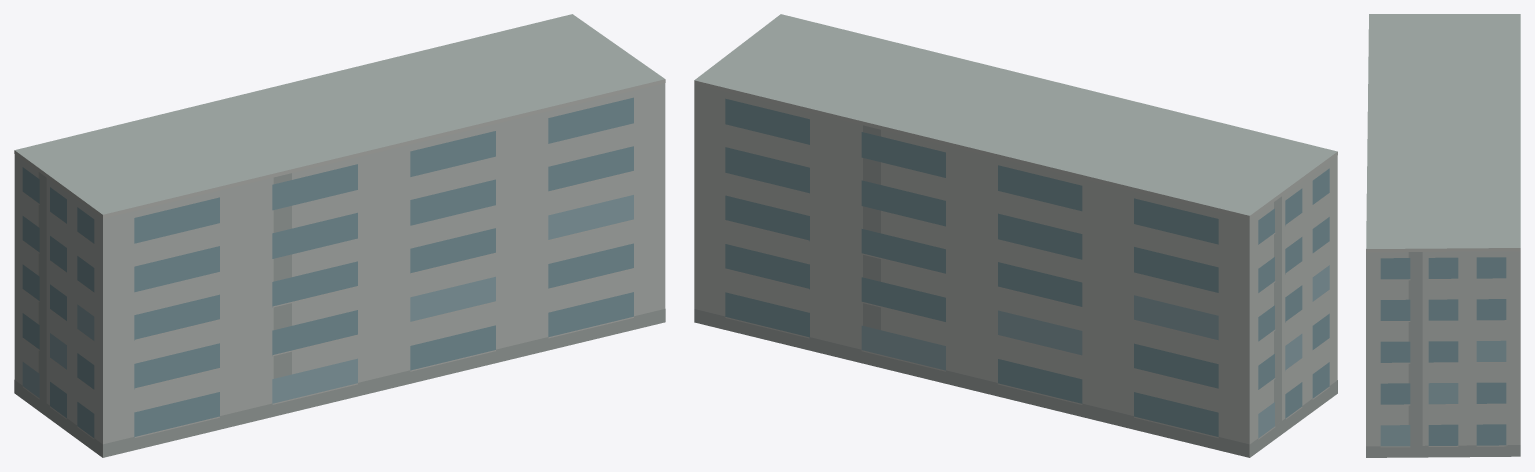
Rendered from residential-b65b1051-b48e-4712-afce-ce7376245636.glb.
3 renders of one model, left to right at view 1: azimuth 30°, elevation 25°; view 2: azimuth 150°, elevation 25°; view 3: azimuth 270°, elevation 25°, orthographic. The views are drawn at different scales.
Visible parts, largest first — view 1: residential-b65b1051-b48e-4712-afce-ce7376245636.tmp; view 2: residential-b65b1051-b48e-4712-afce-ce7376245636.tmp; view 3: residential-b65b1051-b48e-4712-afce-ce7376245636.tmp.
Part boxes in pixels (x1,y1,x2,y2): residential-b65b1051-b48e-4712-afce-ce7376245636.tmp: [14, 14, 665, 457]; residential-b65b1051-b48e-4712-afce-ce7376245636.tmp: [694, 14, 1337, 457]; residential-b65b1051-b48e-4712-afce-ce7376245636.tmp: [1366, 14, 1520, 457].
Size of the model in its own units: 36.84 by 15.25 by 10.25.
